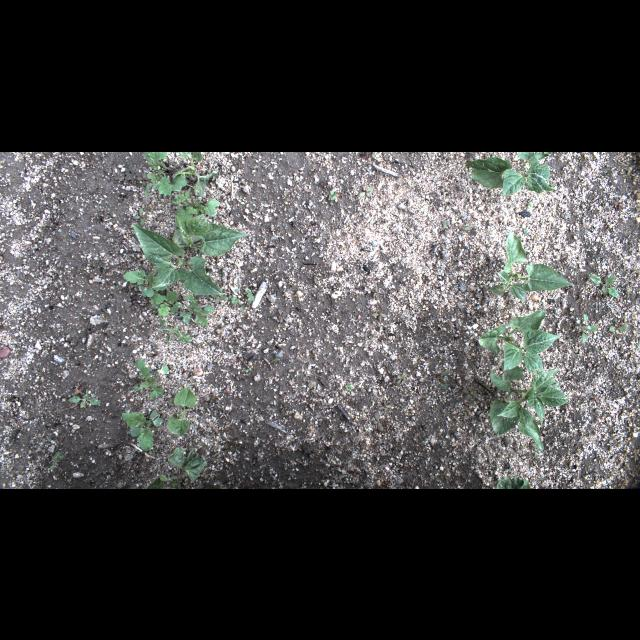crop: (489, 361, 568, 452), (132, 222, 224, 294), (487, 228, 573, 302), (479, 308, 561, 372), (464, 151, 554, 195), (172, 213, 248, 255), (146, 448, 208, 488), (172, 152, 218, 194), (169, 384, 197, 436), (160, 318, 192, 344), (496, 476, 530, 488)
weed: (142, 151, 188, 195), (123, 408, 163, 449), (174, 192, 218, 226), (134, 359, 168, 398), (122, 270, 168, 296), (180, 294, 214, 326), (150, 291, 182, 317), (587, 274, 619, 298), (68, 387, 102, 409), (572, 314, 598, 342), (232, 288, 254, 310), (48, 450, 66, 472), (609, 316, 631, 330), (435, 368, 449, 389), (134, 207, 148, 226), (264, 356, 280, 369), (374, 411, 384, 431), (396, 370, 410, 384), (462, 388, 478, 400), (358, 186, 374, 197), (217, 288, 229, 302), (225, 441, 238, 452), (378, 400, 392, 410), (372, 311, 386, 321), (438, 220, 448, 234), (210, 391, 218, 402), (458, 224, 469, 232), (329, 189, 337, 199), (479, 381, 487, 391), (210, 482, 220, 488), (312, 390, 322, 396), (280, 402, 286, 412), (42, 438, 52, 444), (532, 452, 540, 458), (344, 384, 352, 390), (246, 366, 252, 372), (526, 202, 532, 208), (244, 288, 252, 292), (372, 152, 376, 158)
